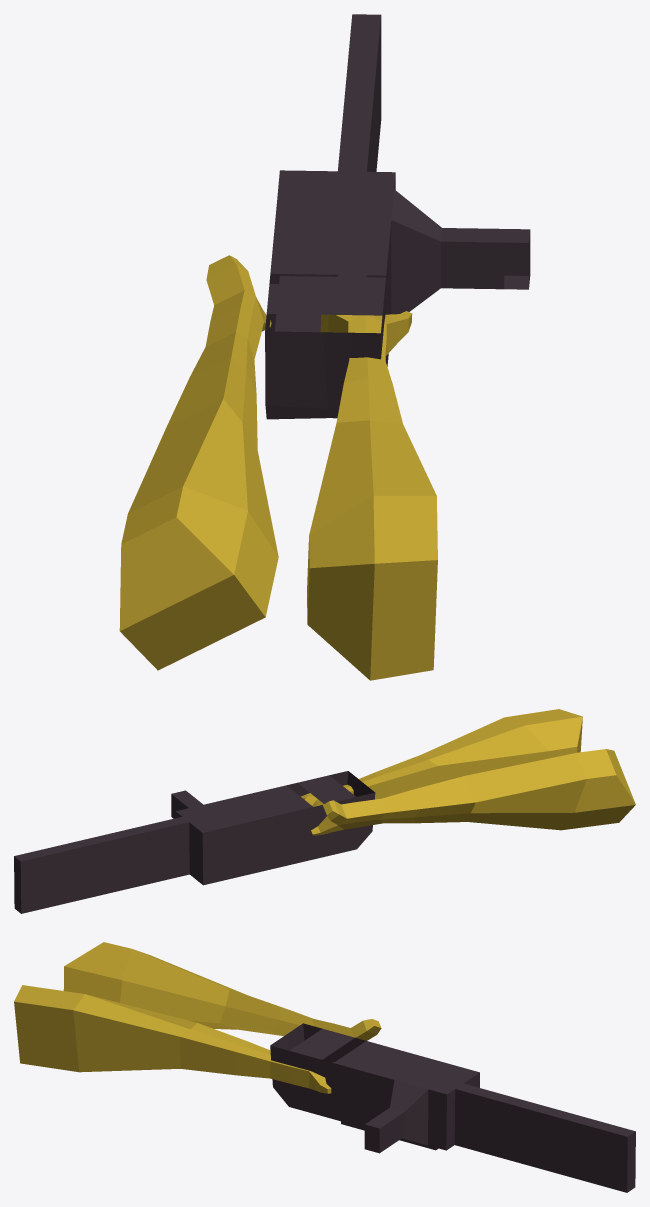
File: arme_000004.obj
3 renders of one model, top to bottom at view 1: azimuth 30°, elevation 25°; view 2: azimuth 150°, elevation 25°; view 3: azimuth 270°, elevation 25°, orthographic. The views are drawn at different scales.
Visible parts, largest first — view 1: Cube.048_Cube.024, Cube.046_Cube.010; view 2: Cube.048_Cube.024, Cube.046_Cube.010; view 3: Cube.048_Cube.024, Cube.046_Cube.010.
Part boxes in pixels (x1,y1,x2,y2): Cube.048_Cube.024: (119, 255, 437, 680); Cube.046_Cube.010: (265, 14, 530, 419); Cube.048_Cube.024: (301, 709, 635, 835); Cube.046_Cube.010: (14, 771, 375, 913); Cube.048_Cube.024: (14, 942, 381, 1093); Cube.046_Cube.010: (270, 1023, 635, 1192).
Bounding box in the file's own units: 1652 × 316 × 2210.
